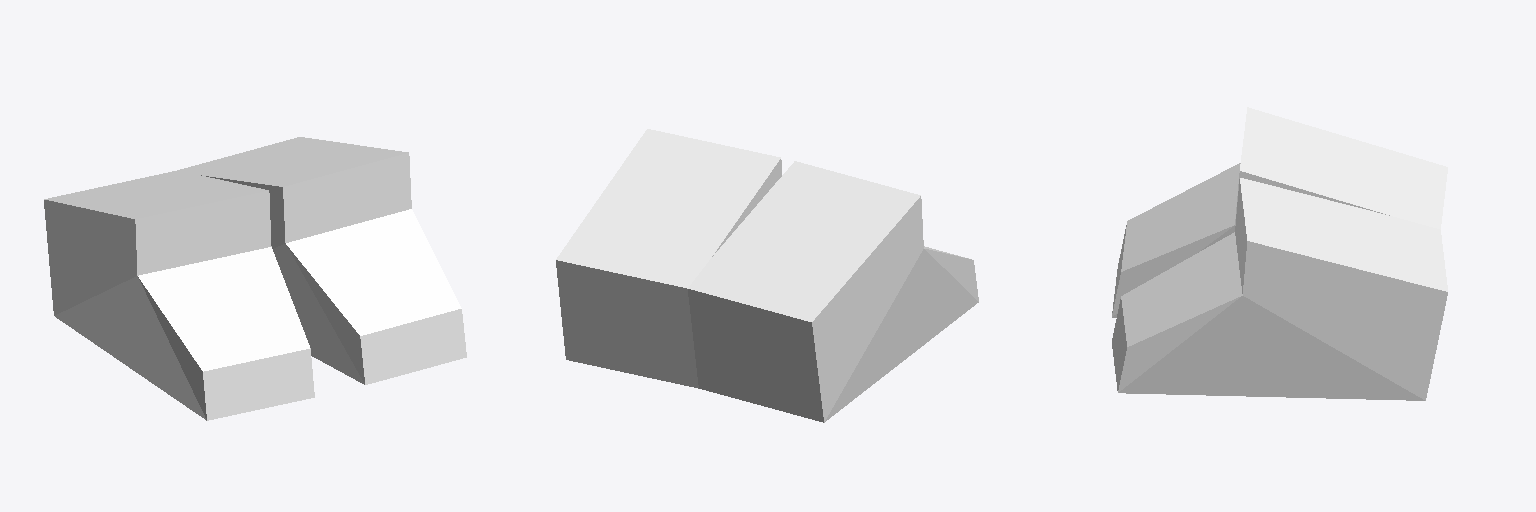
Rendered from mps_boots.obj.
3 views of the same model, side by side, from view 1: azimuth 30°, elevation 25°; view 2: azimuth 150°, elevation 25°; view 3: azimuth 270°, elevation 25° (orthographic).
Visible parts, largest first — view 1: boots1, boots2; view 2: boots1, boots2; view 3: boots2, boots1.
Boxes of the visible parts, box(x1,y1,x2,y2) form: boots1: box(44, 171, 314, 420); boots2: box(177, 137, 466, 384); boots1: box(688, 161, 978, 422); boots2: box(556, 129, 781, 388); boots2: box(1112, 178, 1447, 400); boots1: box(1112, 107, 1447, 317).
Size of the model in its own units: 9.09 by 5.19 by 9.66.